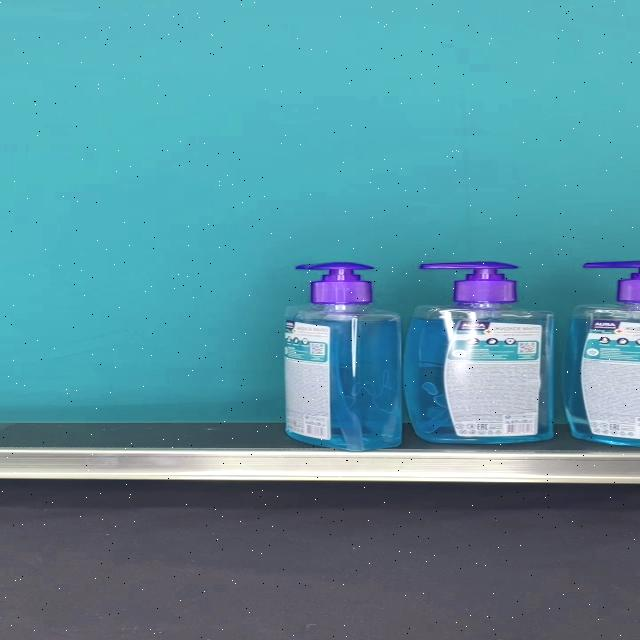Bottle: (404, 262, 553, 444), (284, 262, 402, 451)
Cap: (418, 262, 518, 303), (295, 263, 376, 304)
